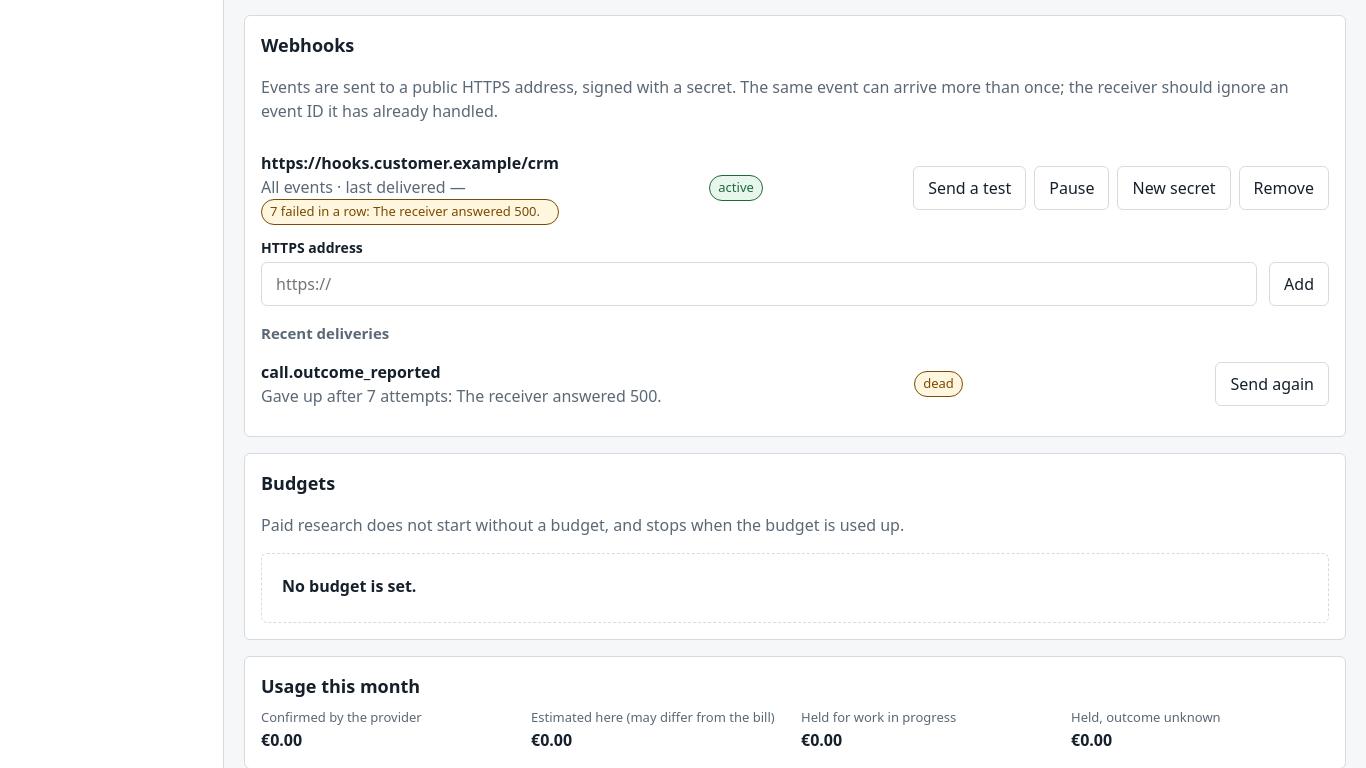
it: API keys and webhooks › shows failing deliveries with their reason and replays one on request
(page scrolled)
Expected: the text "7 failed in a row: The receiver answered 500." is shown, [261, 199, 559, 224]
Expected: the text "Gave up after 7 attempts: The receiver answered 500." is shown, [261, 384, 662, 408]
Click the button "Send again" at (1272, 384), box [1216, 362, 1329, 406]
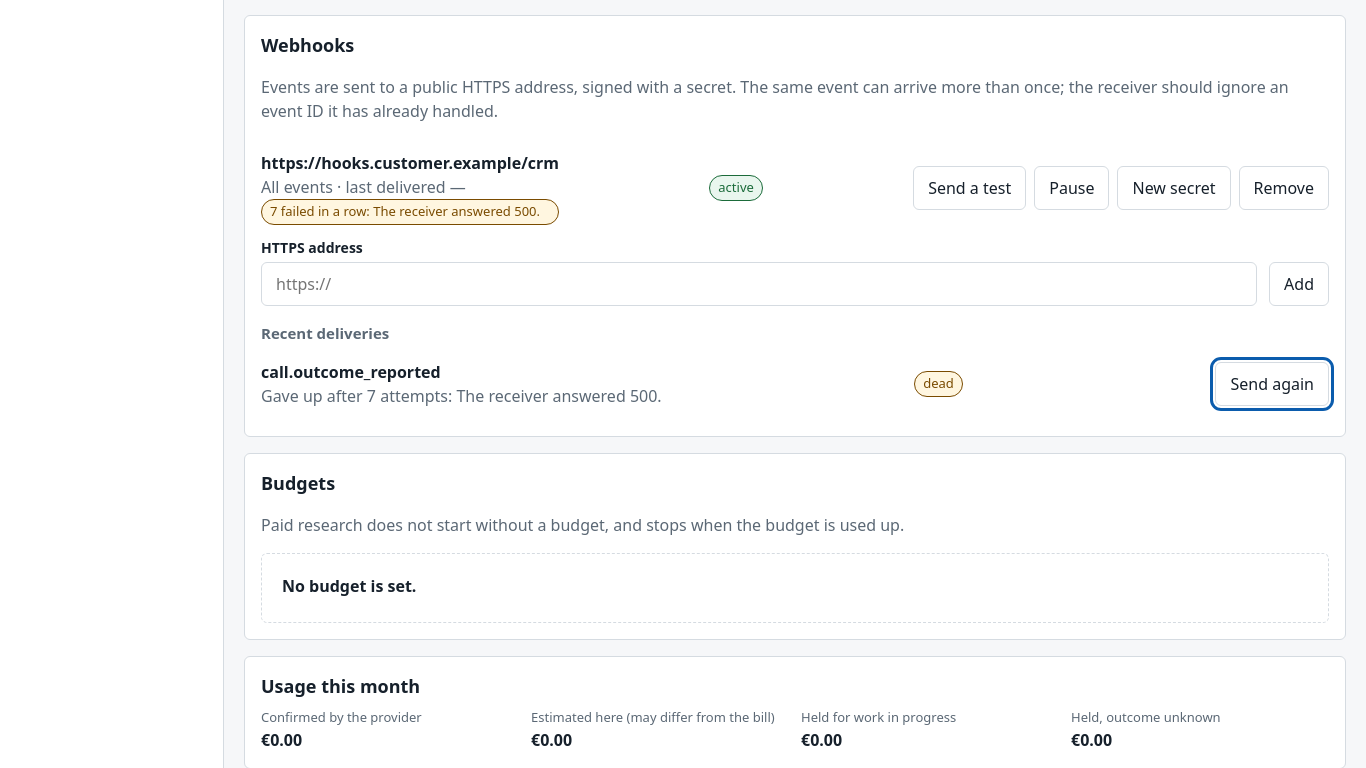
Type "https://10.0.0.5/hook" into the field labelled "HTTPS address" at (759, 284), box [261, 262, 1257, 306]
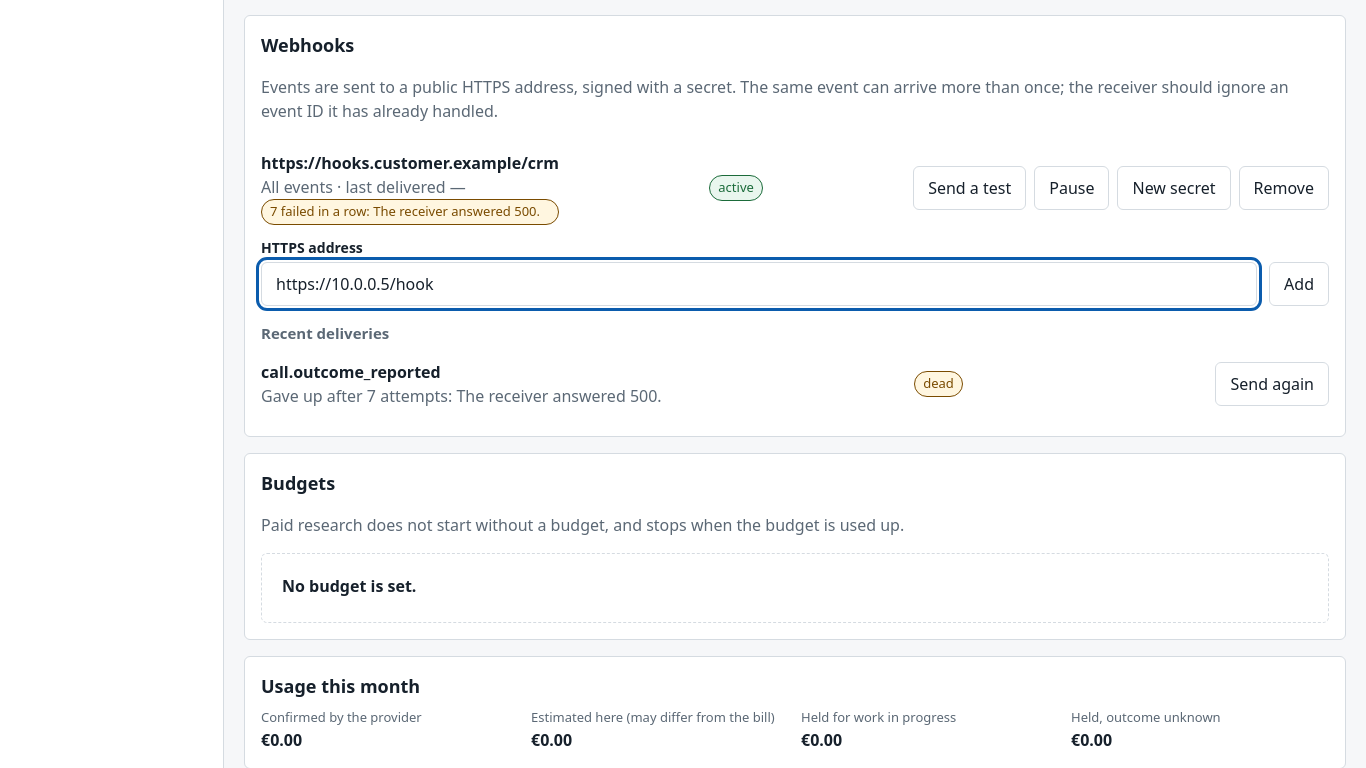
Click the button "Add" at (1299, 284), box [1269, 262, 1329, 306]
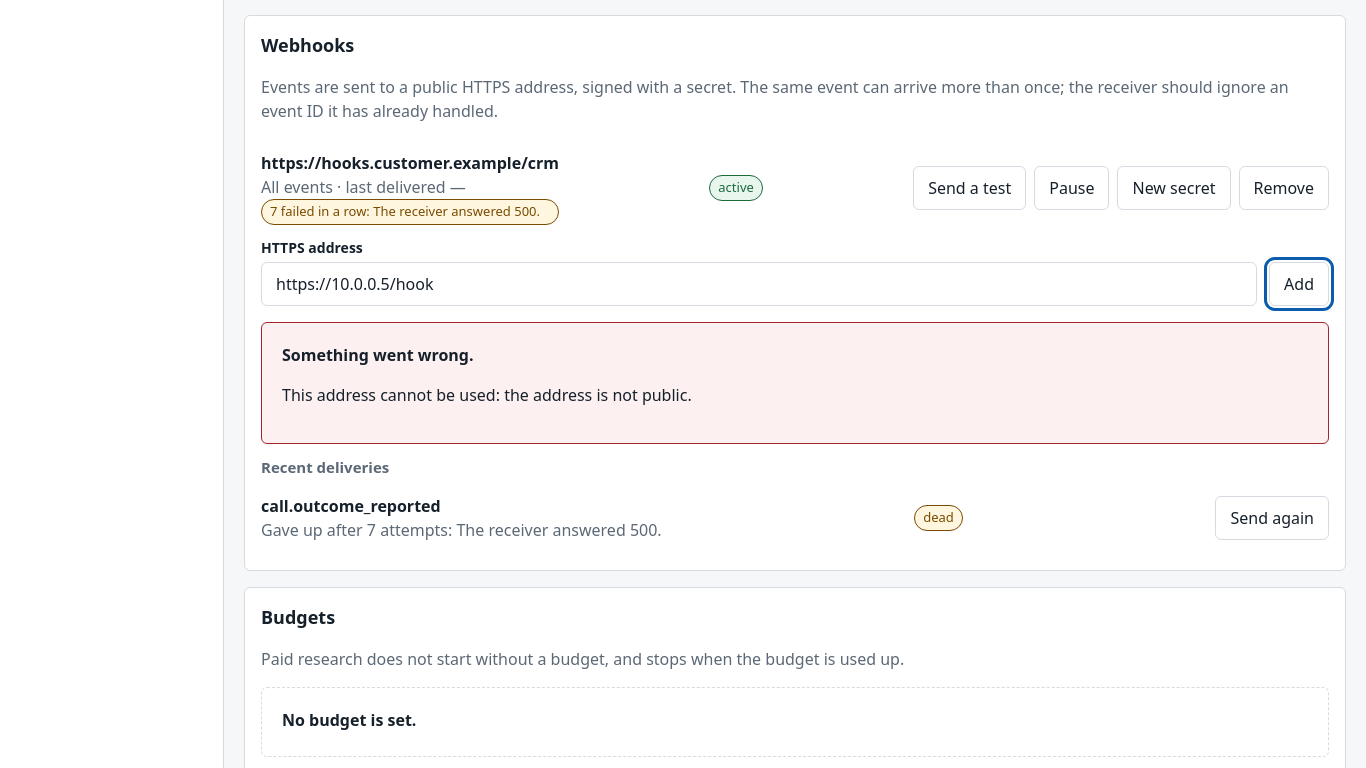
Now the text "This address cannot be used: the address is not public." is shown, box [282, 384, 692, 406]
